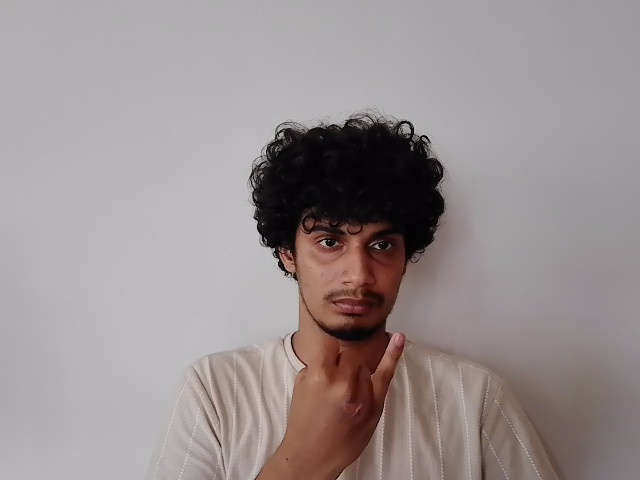bad: (288, 332, 409, 456)
